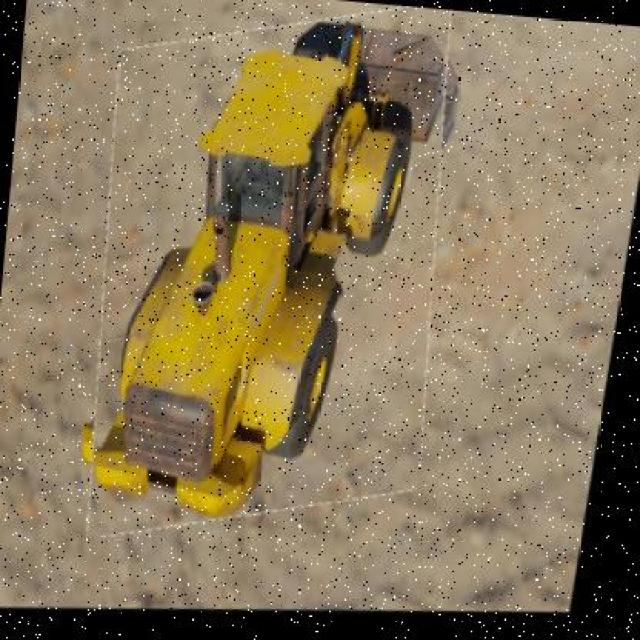buldozerpayloadergrader: (89, 0, 448, 540)
